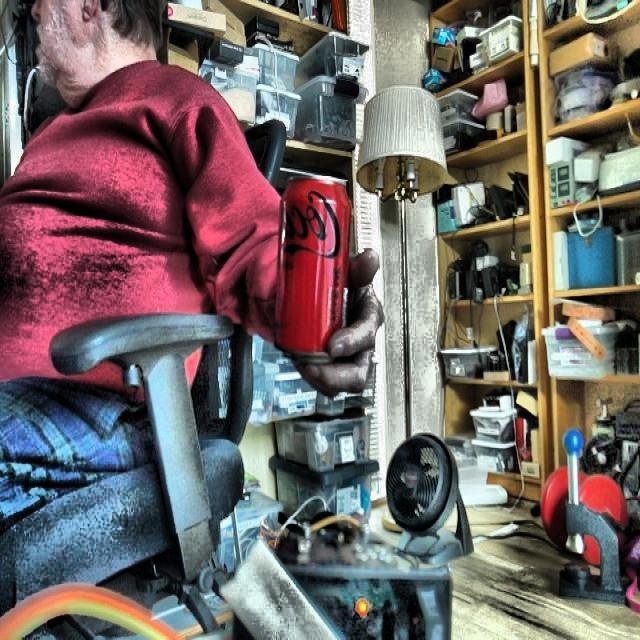CokeZero-can: (272, 173, 352, 365)
